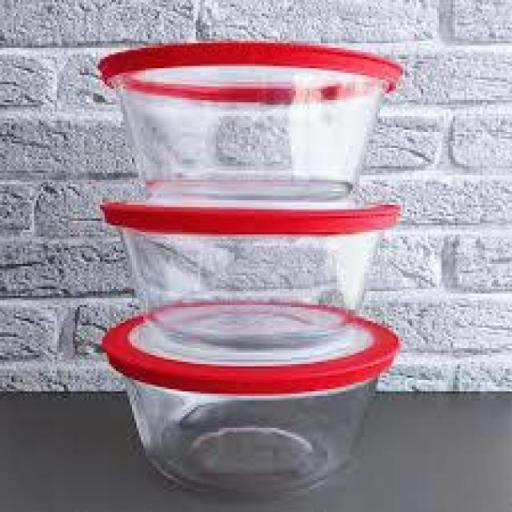glass: (103, 306, 404, 500), (96, 43, 406, 205), (96, 200, 401, 348)
